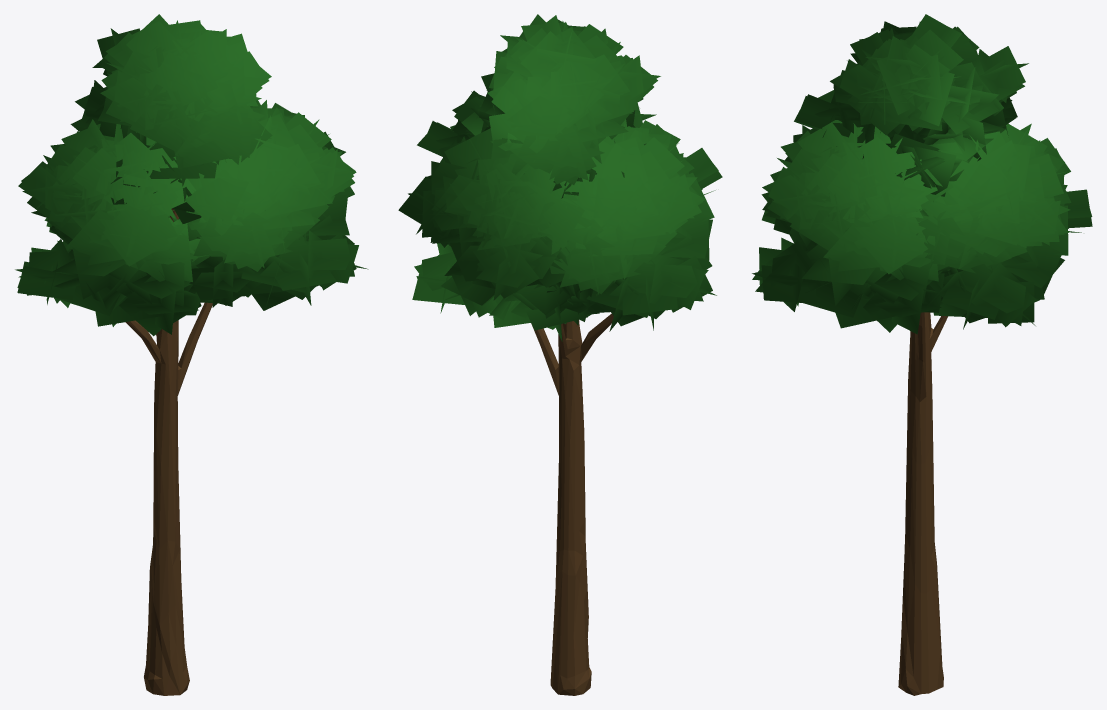
Rendered from SM_tree_04.fbx.
The picture shows the model from 3 angles, left to right: view 1: azimuth 30°, elevation 25°; view 2: azimuth 150°, elevation 25°; view 3: azimuth 270°, elevation 25°; orthographic projection.
Parts seen in each view (by area): view 1: Object32448; view 2: Object32448; view 3: Object32448.
Boxes of the visible parts, x1,y1,x2,y2 form: Object32448: [15, 14, 368, 695]; Object32448: [398, 14, 722, 695]; Object32448: [752, 14, 1092, 695].
Bounding box in the file's own units: 416 × 851 × 391.
